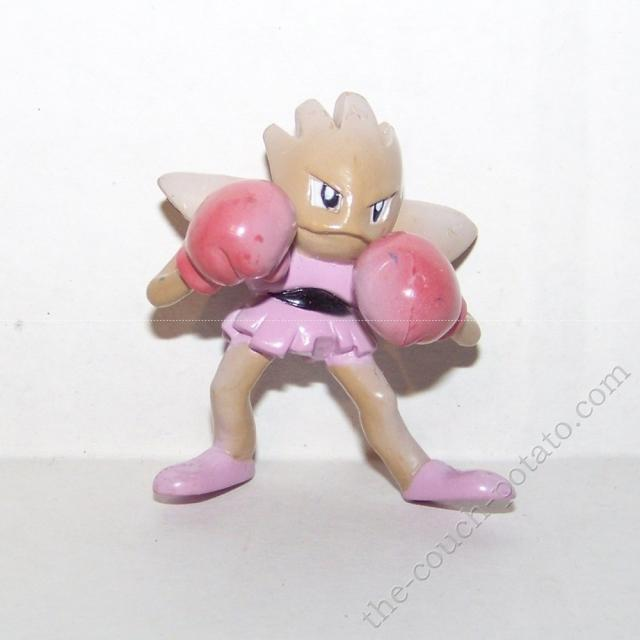Hitmonchan: (144, 93, 485, 508)
